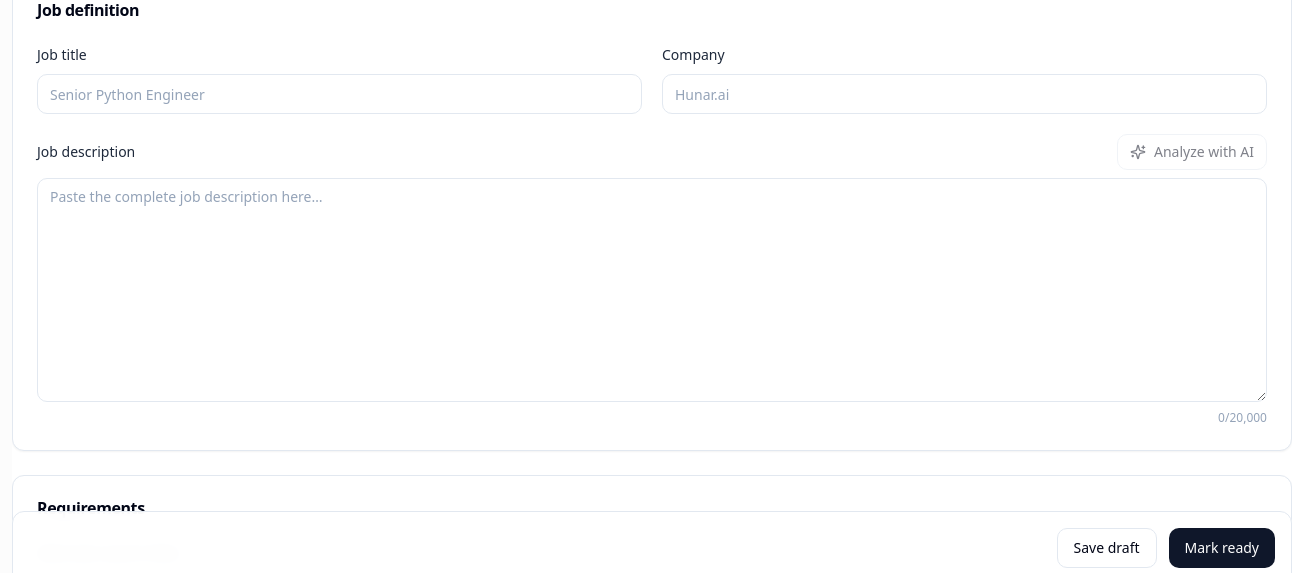
Test: JobEditor › keeps AI analysis non-authoritative and only fills editable suggestions
Type "Build reliable Python and FastAPI services for an AI hiring product." into the text box labelled "Job description" at (652, 290), box x1=37 y1=178 x2=1267 y2=402
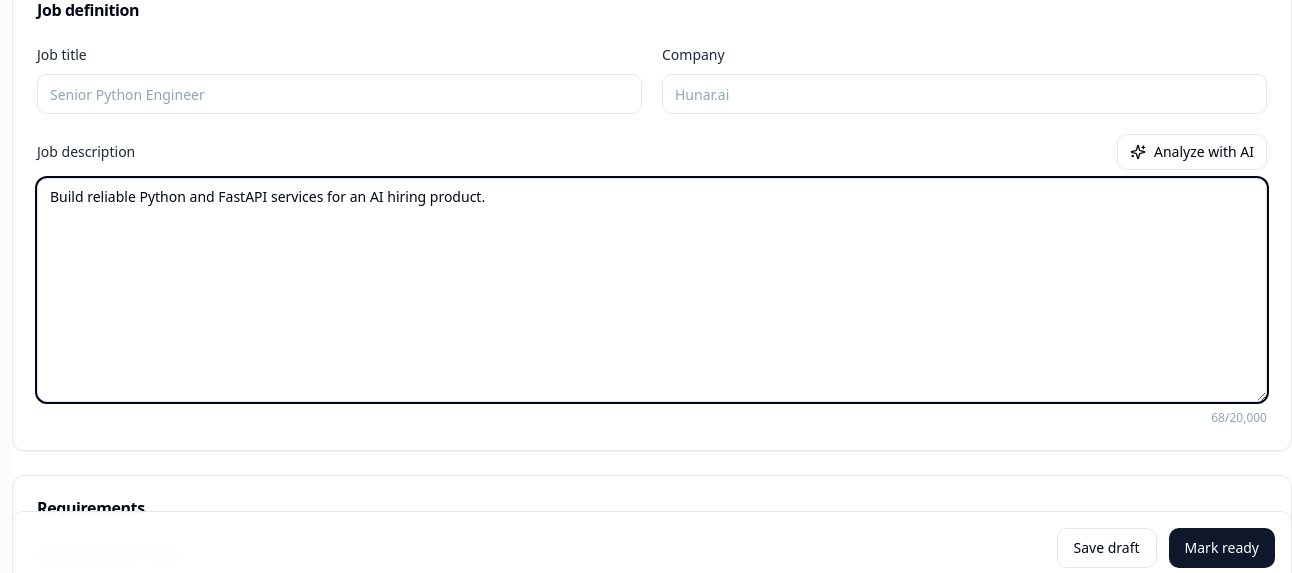
Click the button "Analyze with AI" at (1192, 152), box x1=1117 y1=134 x2=1267 y2=170
(page scrolled)
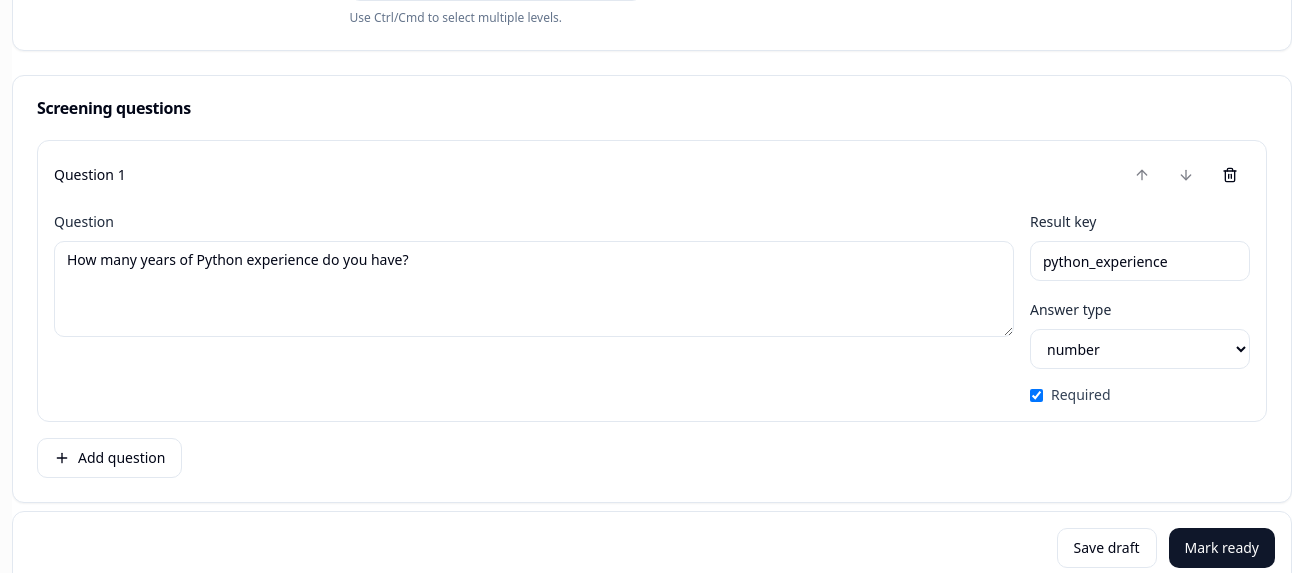
Expected: the text box showing "How many years of Python experience do you have?" is shown, x1=54 y1=241 x2=1014 y2=337
